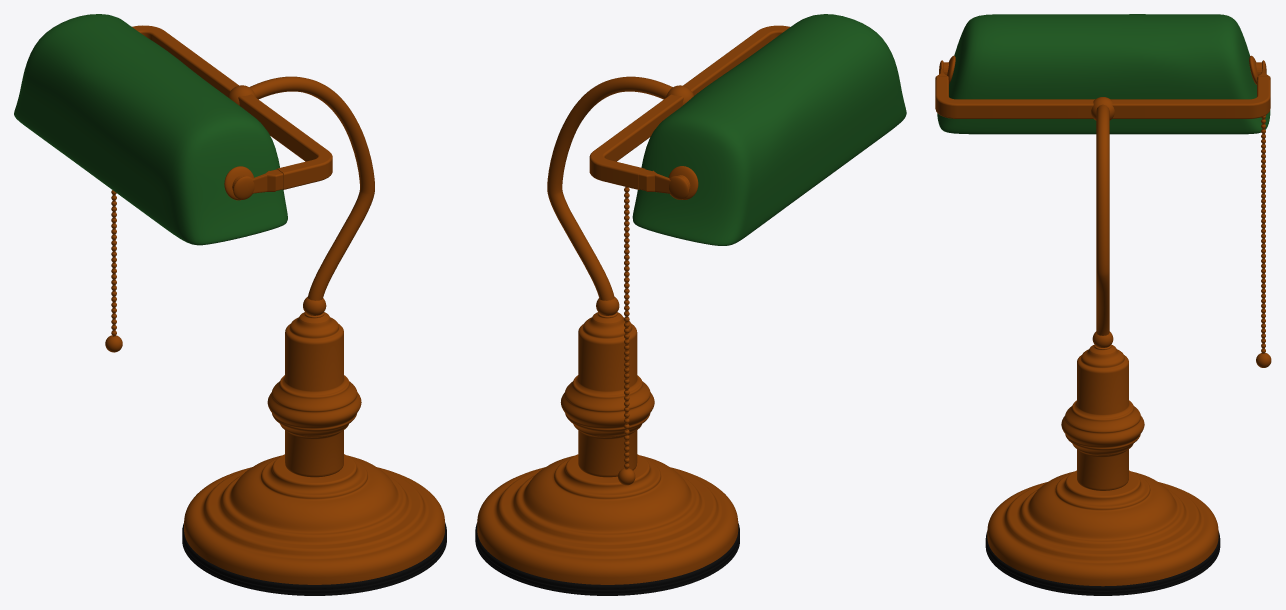
The model's file is lamp.FBX.
3 views of the same model, side by side, from view 1: azimuth 30°, elevation 25°; view 2: azimuth 150°, elevation 25°; view 3: azimuth 270°, elevation 25° (orthographic). The views are drawn at different scales.
Parts seen in each view (by area): view 1: Circle02, Box01, Line02, Line01; view 2: Circle02, Box01, Line02, Line01; view 3: Circle02, Box01, Line02, Line01.
Boxes of the visible parts, box(x1,y1,x2,y2) form: Circle02: box(182, 296, 446, 595); Box01: box(14, 14, 287, 245); Line02: box(132, 25, 332, 199); Line01: box(249, 76, 374, 300); Circle02: box(475, 296, 739, 595); Box01: box(632, 14, 906, 245); Line02: box(589, 25, 789, 199); Line01: box(547, 76, 672, 300); Circle02: box(985, 331, 1220, 595); Box01: box(937, 14, 1270, 134); Line02: box(935, 60, 1270, 118); Line01: box(1096, 104, 1109, 335).
Size of the model in its own units: 202 by 300 by 201.
